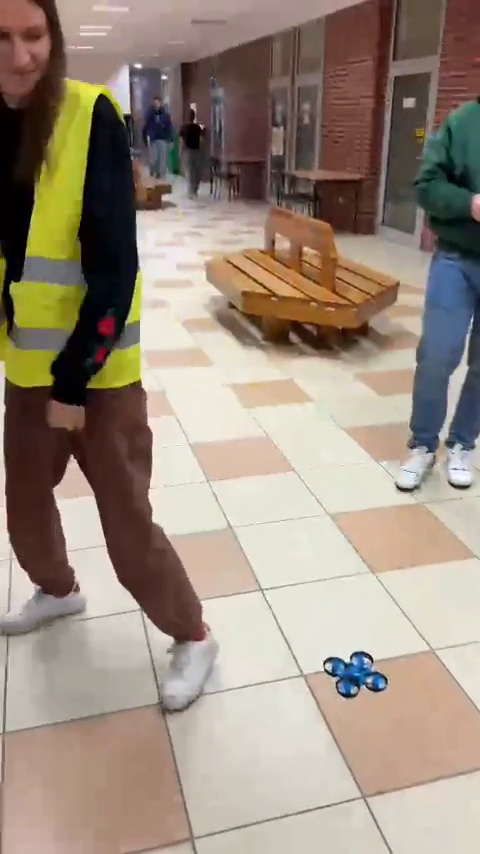drone: (322, 649, 385, 695)
no vest: (377, 75, 480, 490), (178, 104, 214, 190), (141, 93, 175, 172)
vest: (0, 2, 188, 680)
